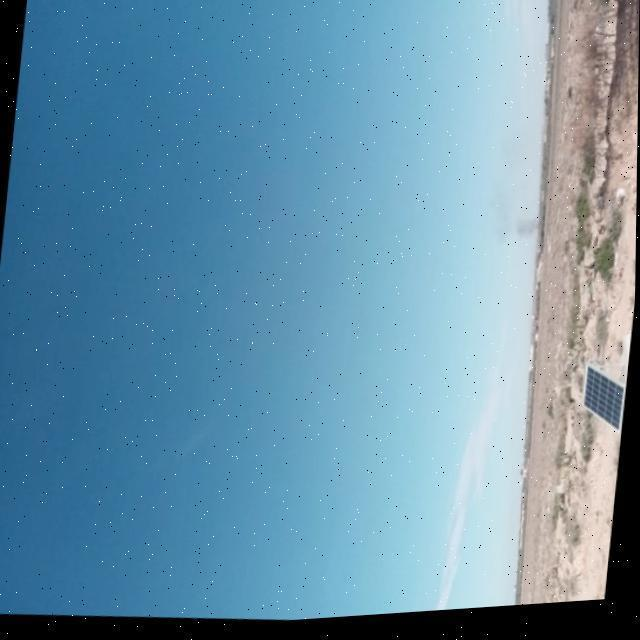Normal Solar Panel: (580, 368, 630, 441)
